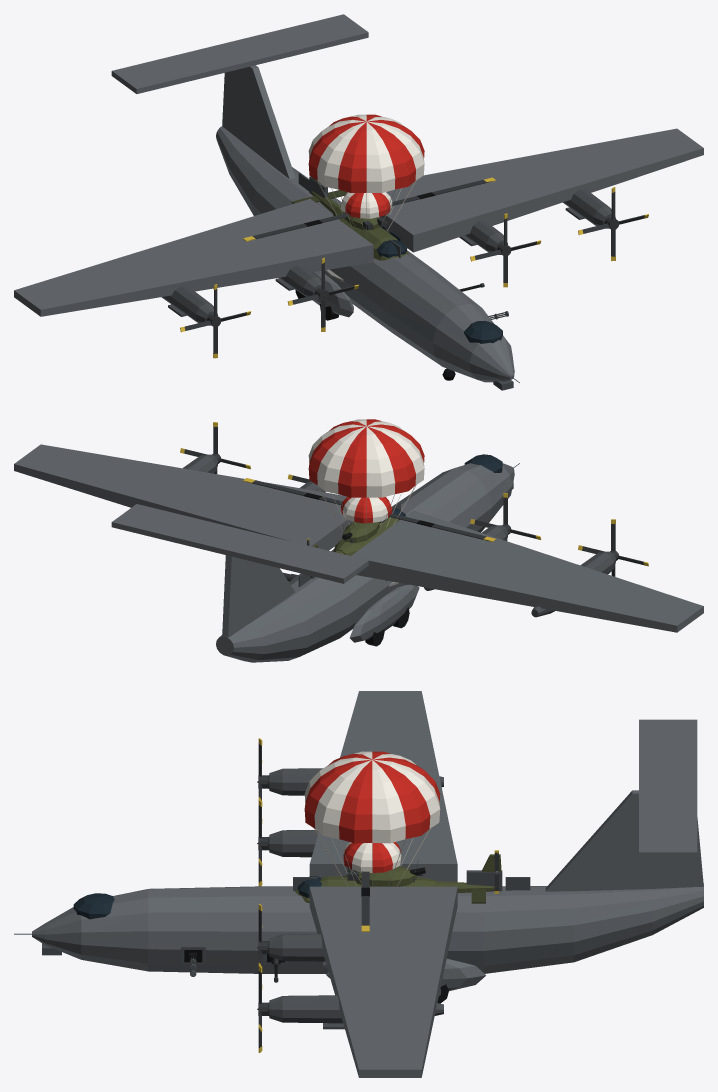
The model's file is air.glb.
3 renders of one model, top to bottom at view 1: azimuth 30°, elevation 25°; view 2: azimuth 150°, elevation 25°; view 3: azimuth 270°, elevation 25°, orthographic. The views are drawn at different scales.
Parts seen in each view (by area): view 1: gunship, parachute, griffon, crate_drop_chute, griffon_mainrotor; view 2: gunship, parachute, griffon, crate_drop_chute, griffon_mainrotor; view 3: gunship, parachute, griffon, crate_drop_chute.
Part boxes in pixels (left/top/right/bottom): gunship: left=14, top=14, right=703, bottom=390; parachute: left=308, top=114, right=424, bottom=236; griffon: left=291, top=176, right=408, bottom=260; crate_drop_chute: left=341, top=192, right=392, bottom=228; griffon_mainrotor: left=243, top=177, right=495, bottom=241; gunship: left=14, top=422, right=703, bottom=662; parachute: left=308, top=419, right=424, bottom=541; griffon: left=312, top=508, right=405, bottom=555; crate_drop_chute: left=341, top=497, right=392, bottom=530; griffon_mainrotor: left=243, top=478, right=495, bottom=541; gunship: left=14, top=691, right=703, bottom=1077; parachute: left=304, top=751, right=440, bottom=888; griffon: left=295, top=854, right=501, bottom=903; crate_drop_chute: left=343, top=842, right=401, bottom=882.
Bounding box in the file's own units: 40 × 10.95 × 30.8.
